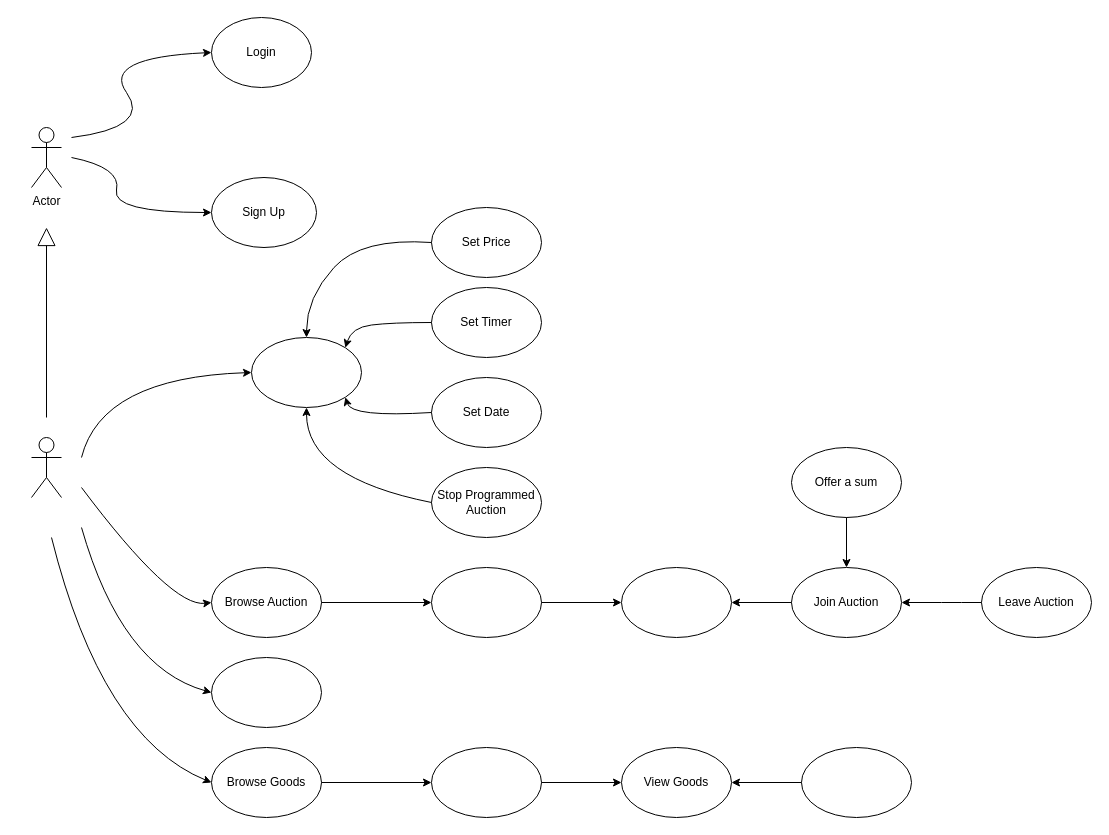
This 1109x835 diagram has some shape labels left out. Here are the shapes that lost their labels. From the top down, the box of each, then its label:
(250, 336, 362, 408): Program an Auction
(30, 436, 62, 498): Registered User
(430, 566, 542, 638): Find Auction
(620, 566, 732, 638): View Auction
(210, 656, 322, 728): Insert Good
(430, 746, 542, 818): Find Goods
(800, 746, 912, 818): Remove Good
